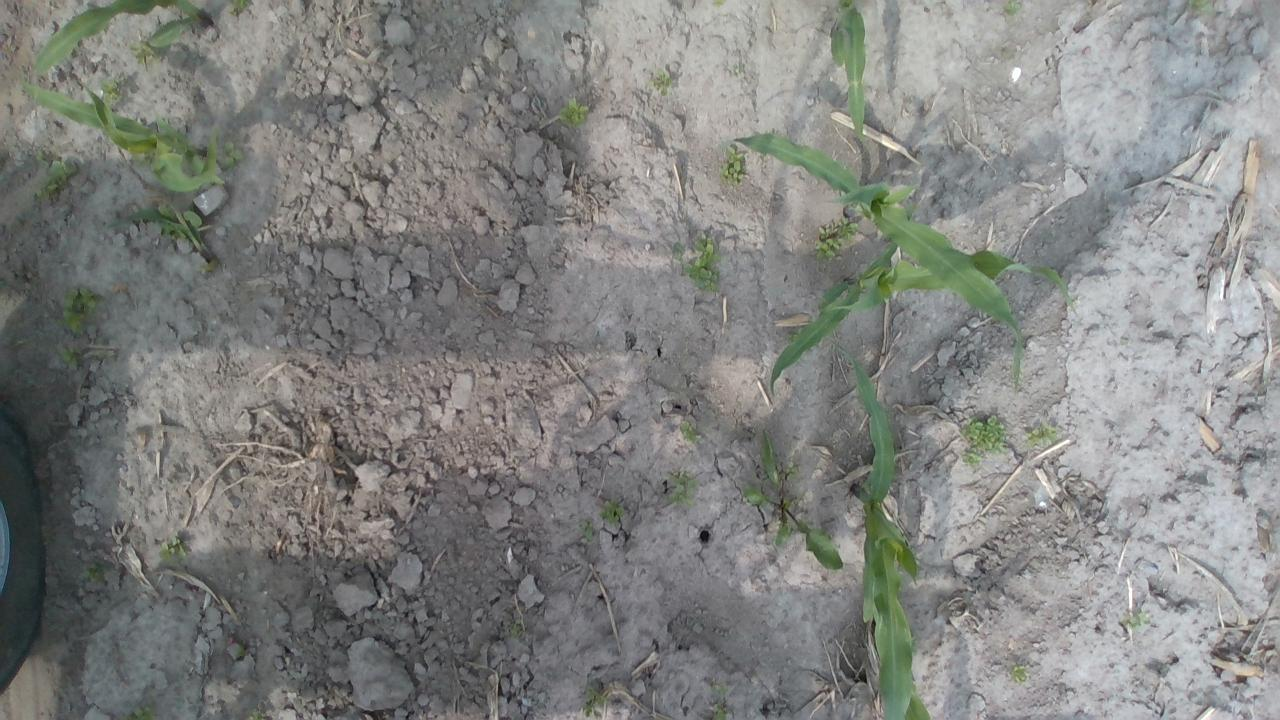Maize: (731, 132, 1024, 395), (768, 206, 1082, 399), (828, 339, 919, 720), (20, 79, 232, 193), (28, 0, 218, 78), (828, 0, 867, 146)
Weeds: (742, 429, 844, 572), (102, 202, 218, 272), (961, 415, 1008, 468), (681, 231, 720, 294), (34, 152, 80, 203), (812, 216, 859, 261), (60, 287, 97, 336), (718, 145, 748, 188), (666, 468, 696, 508), (1024, 419, 1058, 452), (97, 74, 129, 108), (558, 96, 590, 127), (157, 536, 187, 565), (580, 685, 607, 717), (646, 68, 676, 96), (128, 41, 160, 66), (1120, 610, 1152, 633), (599, 498, 627, 524), (222, 140, 245, 168), (58, 348, 82, 372), (1009, 662, 1030, 686), (679, 420, 699, 444), (124, 706, 158, 720), (228, 0, 254, 17), (710, 700, 730, 720), (1188, 0, 1214, 14), (1003, 0, 1023, 18), (506, 618, 524, 638), (580, 520, 596, 541), (83, 564, 101, 582), (710, 682, 729, 695), (246, 709, 268, 720), (785, 462, 797, 481), (730, 64, 746, 76), (236, 644, 249, 658), (786, 333, 800, 345), (711, 0, 726, 9)
